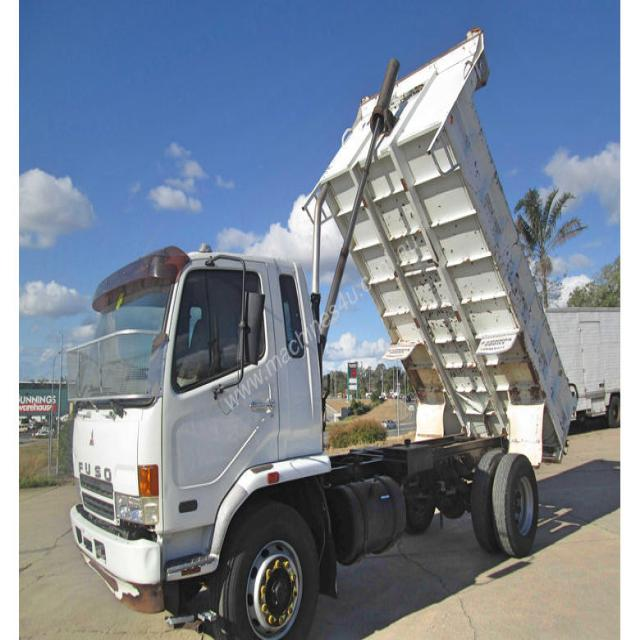truck: (68, 28, 580, 634)
